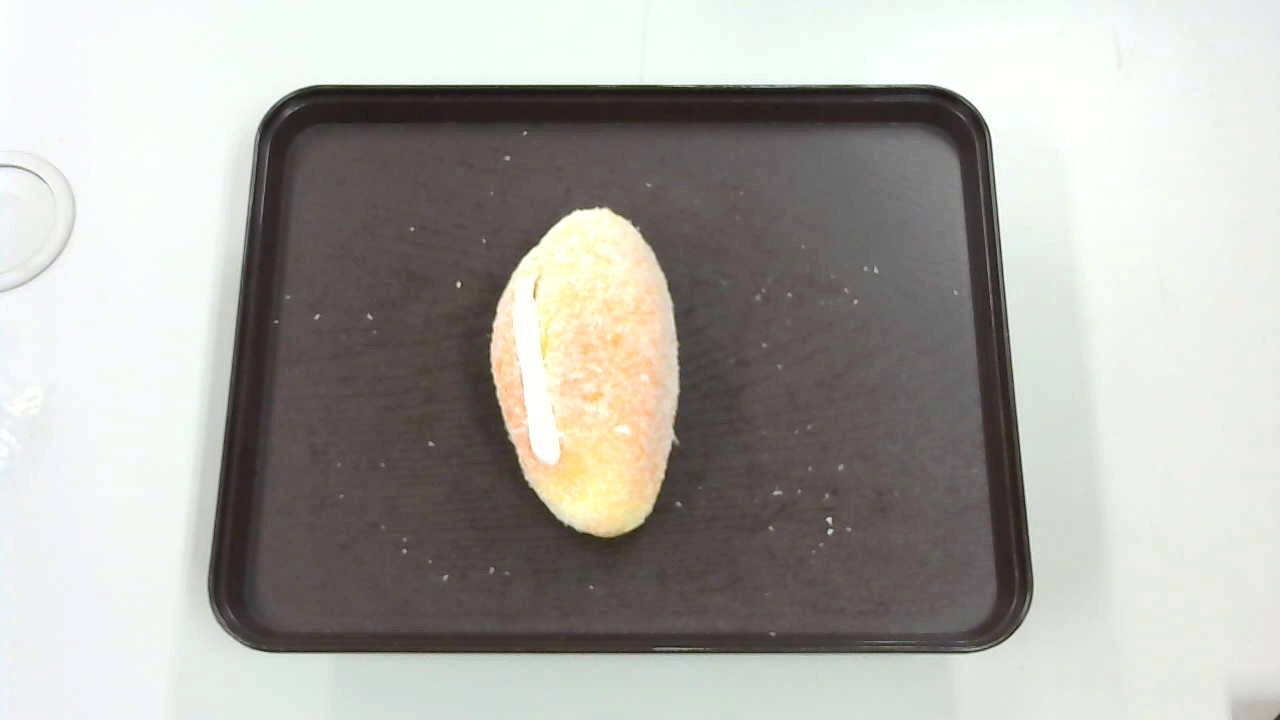coconut: (488, 206, 680, 537)
